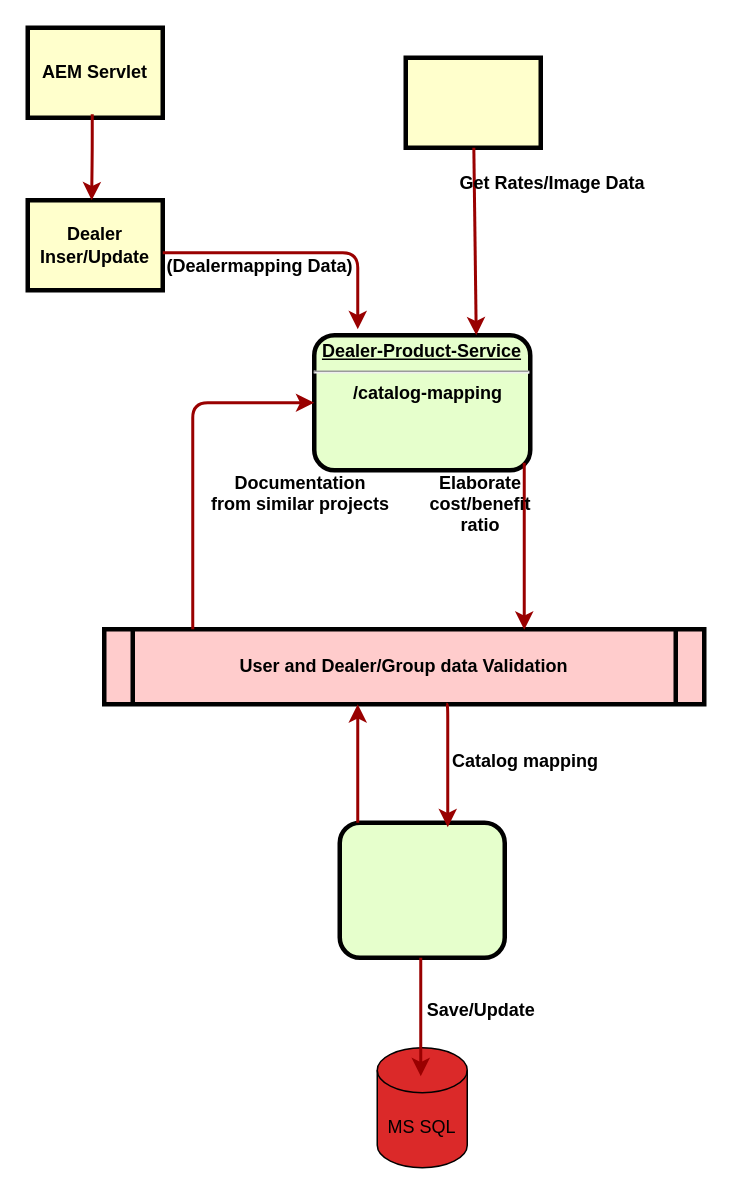
Some shapes in this 732 by 1194 pixel diagram are drawn without their labels. The shapes that lost their labels are listed below. From the top down, each one's centre as x and y in pixels, then its label:
the point at 472,102: Delaer group/Image Data
the point at 421,889: Process 6 New System Construction
